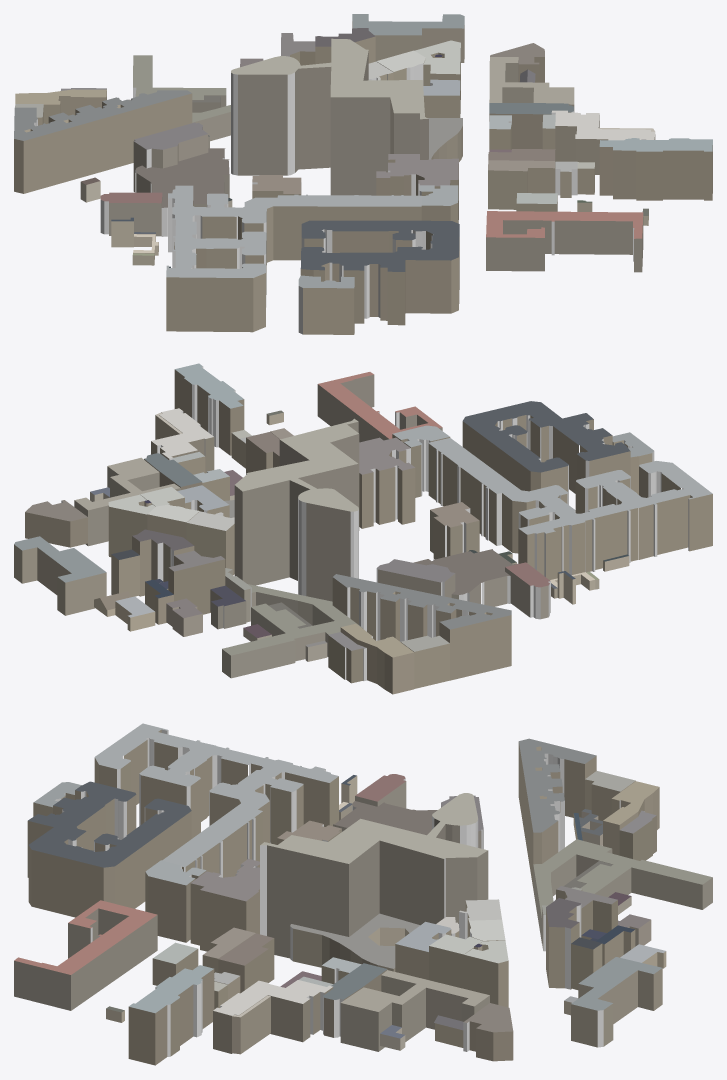
3 renders of one model, top to bottom at view 1: azimuth 30°, elevation 25°; view 2: azimuth 150°, elevation 25°; view 3: azimuth 270°, elevation 25°, orthographic. The views are drawn at different scales.
Visible parts, largest first — view 1: tuile; view 2: tuile; view 3: tuile.
Part boxes in pixels (bbox=[...]): tuile: bbox=[14, 14, 712, 334]; tuile: bbox=[14, 363, 712, 694]; tuile: bbox=[14, 723, 712, 1065].
Bounding box in the file's own units: 287 × 50.12 × 294.
